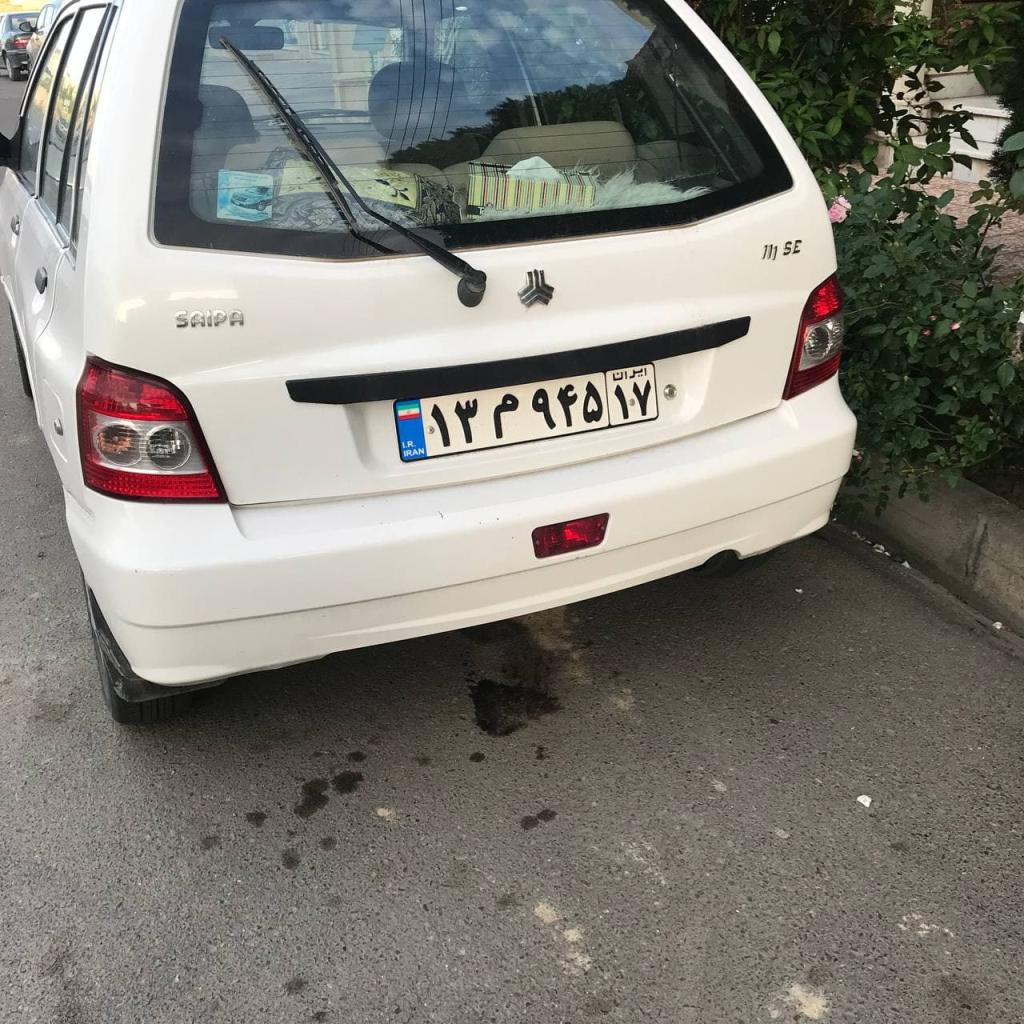Plates: (394, 363, 658, 462)
